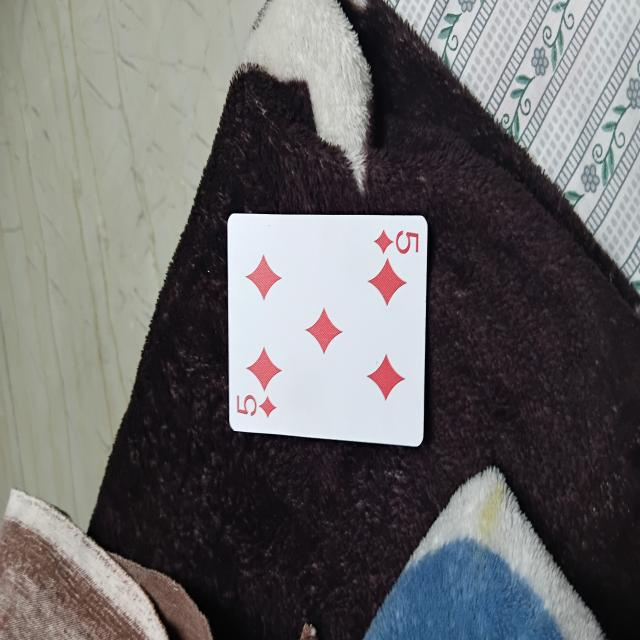5D: (229, 212, 428, 440)
